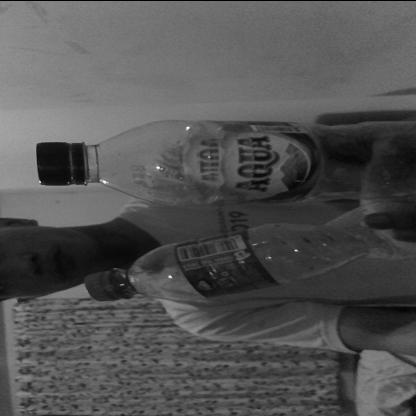plastic_bottles: (84, 197, 416, 301), (39, 118, 416, 206)
